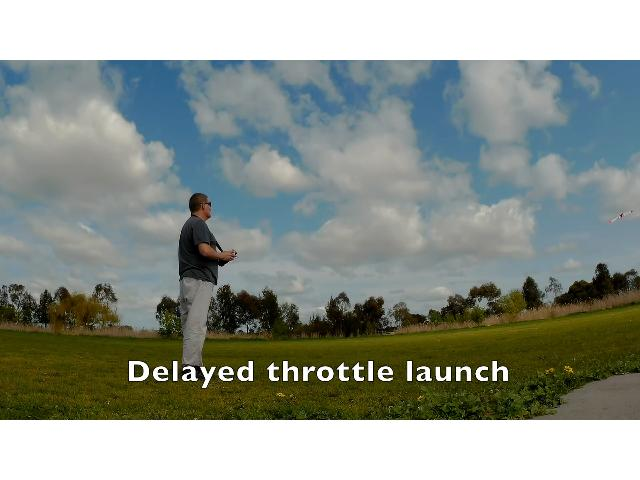Anti-Drone: (609, 211, 633, 224)
